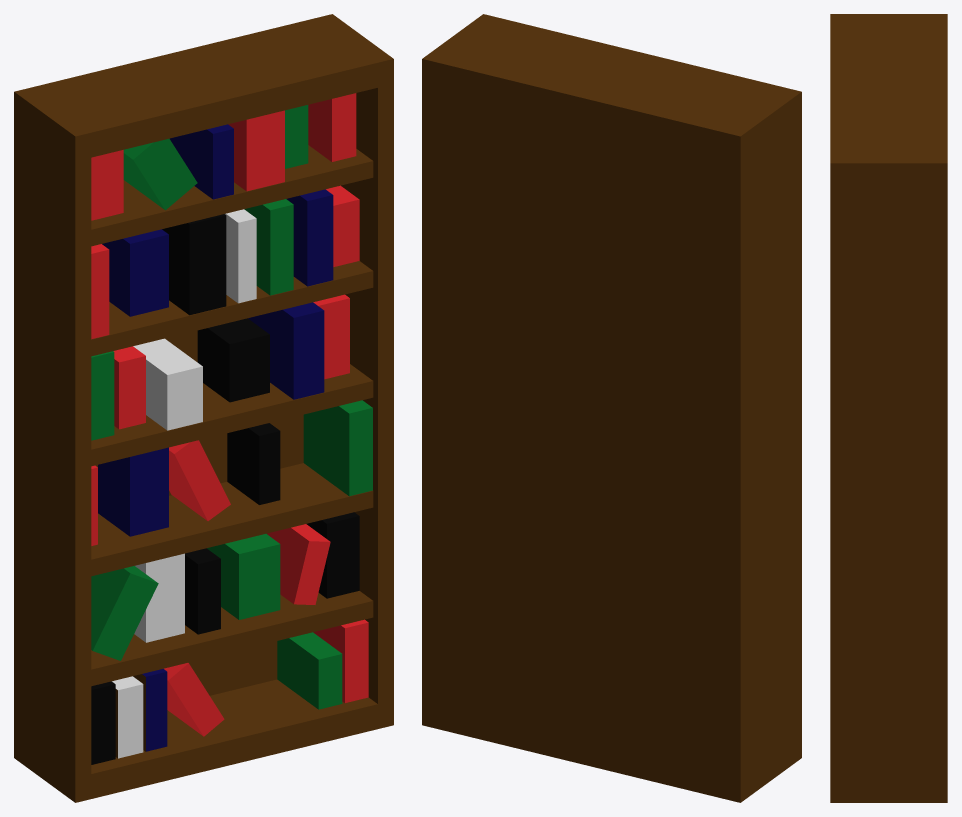
File: Bookshelf_Color.fbx
3 renders of one model, left to right at view 1: azimuth 30°, elevation 25°; view 2: azimuth 150°, elevation 25°; view 3: azimuth 270°, elevation 25°, orthographic. The views are drawn at different scales.
Parts seen in each view (by area): view 1: Object; view 2: Object; view 3: Object.
Part boxes in pixels (left/top/right/bottom): Object: left=14, top=14, right=393, bottom=802; Object: left=422, top=14, right=801, bottom=802; Object: left=830, top=14, right=947, bottom=802.
Bounding box in the file's own units: 100 × 200 × 33.33.
